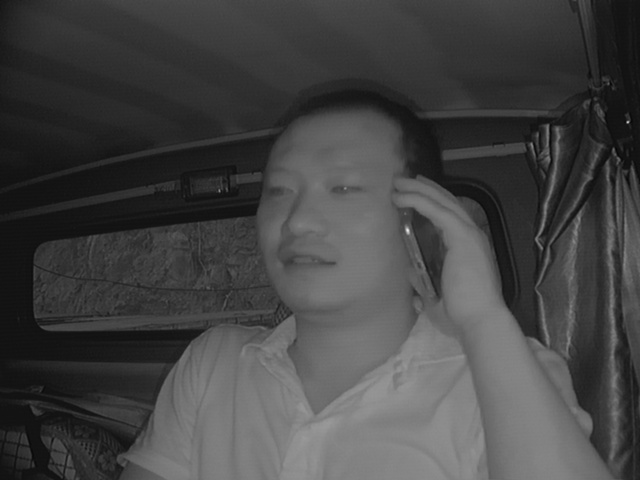hand: (390, 173, 501, 322)
